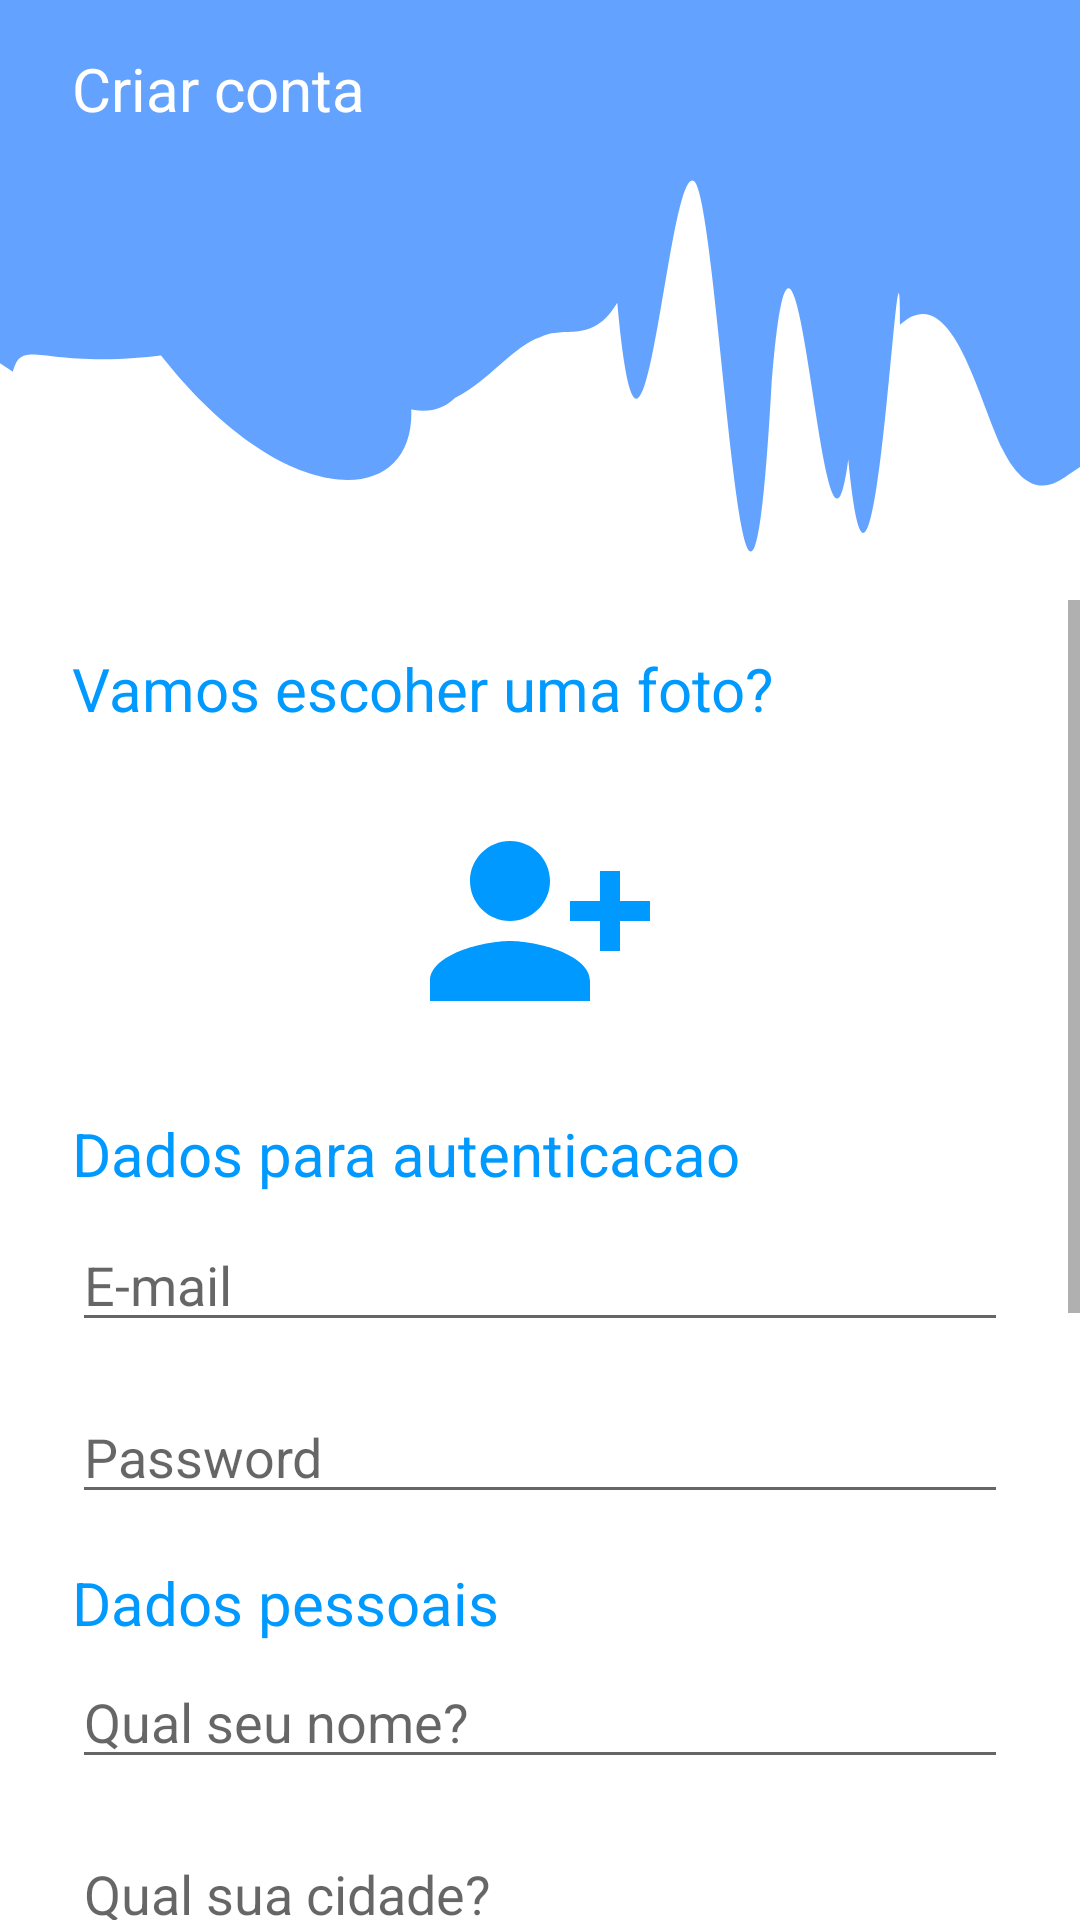

Locate icon controls on the screen. Image size 1080 x 1920, boxes as (x1, y1, x2, y2).
person: (430, 841, 650, 1001)
